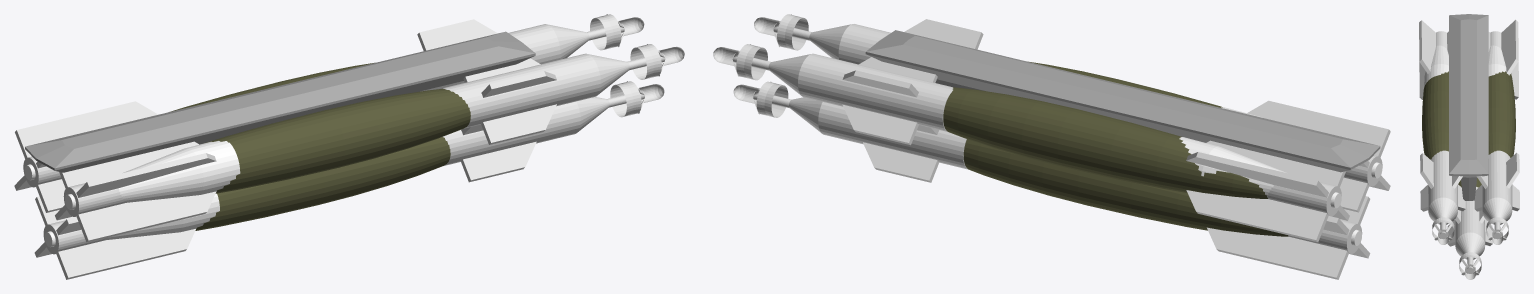
Rendered from f5fgbu123.glb.
3 views of the same model, side by side, from view 1: azimuth 30°, elevation 25°; view 2: azimuth 150°, elevation 25°; view 3: azimuth 270°, elevation 25° (orthographic). The views are drawn at different scales.
Visible parts, largest first — view 1: 円柱.030, 円柱.031, 立方体.010, 円柱.032; view 2: 円柱.032, 円柱.031, 立方体.010, 円柱.030; view 3: 立方体.010, 円柱.032, 円柱.030, 円柱.031.
Part boxes in pixels (x1,y1,x2,y2): 円柱.030: [55, 44, 684, 242]; 円柱.031: [34, 81, 664, 279]; 立方体.010: [25, 31, 535, 172]; 円柱.032: [14, 14, 644, 212]; 円柱.032: [713, 44, 1349, 242]; 円柱.031: [733, 81, 1370, 279]; 立方体.010: [865, 30, 1380, 172]; 円柱.030: [754, 14, 1390, 212]; 立方体.010: [1449, 14, 1488, 200]; 円柱.032: [1474, 19, 1519, 244]; 円柱.030: [1419, 20, 1465, 244]; 円柱.031: [1447, 178, 1492, 279].
Size of the model in its own units: 3.76 by 0.699 by 0.7797.
Materials: 4 (1 with a texture image).
